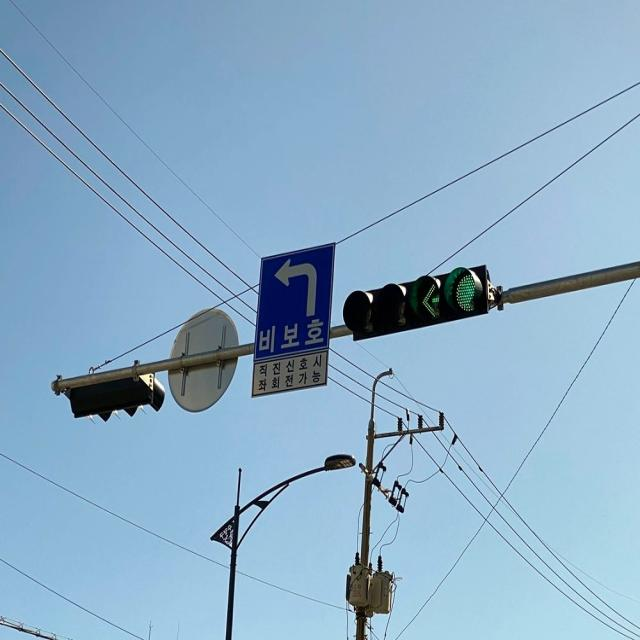Green Light: (445, 266, 487, 315)
